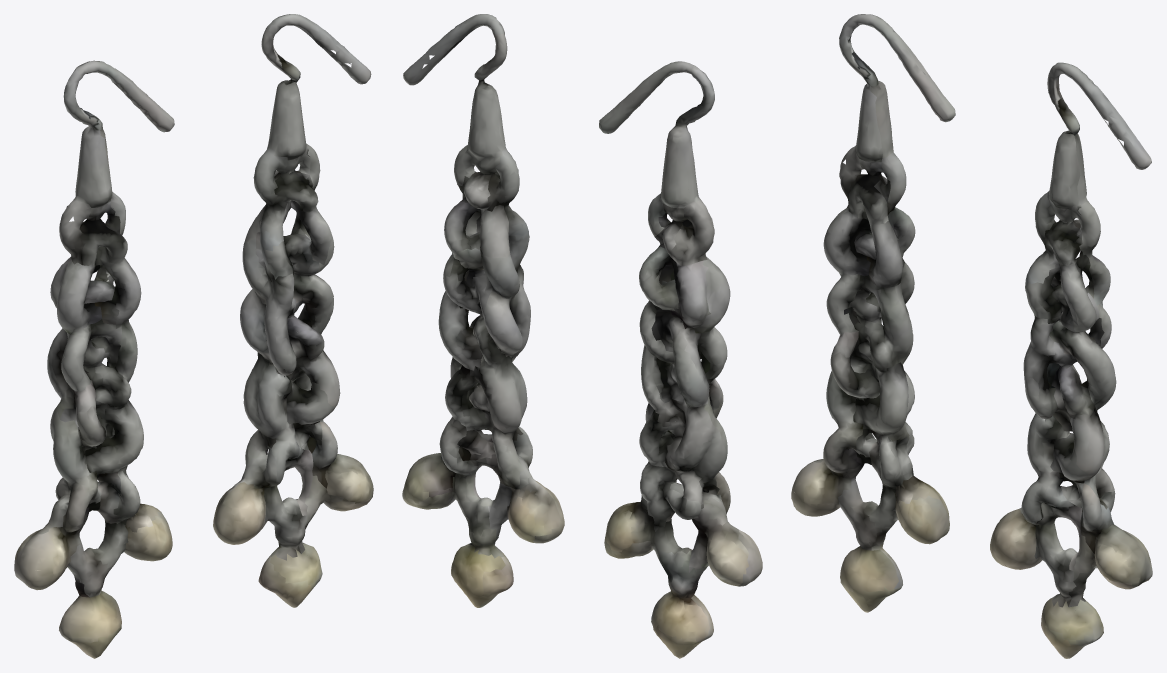
The model's file is damla_kupe.glb.
3 views of the same model, side by side, from view 1: azimuth 30°, elevation 25°; view 2: azimuth 150°, elevation 25°; view 3: azimuth 330°, elevation 25° (orthographic).
Parts seen in each view (by area): view 1: damla_kupe; view 2: damla_kupe; view 3: damla_kupe.
Part boxes in pixels (box(x1,y1,x2,y2)): damla_kupe: box(14, 14, 373, 658); damla_kupe: box(402, 14, 762, 658); damla_kupe: box(791, 14, 1152, 658).
Size of the model in its own units: 0.165 by 0.2659 by 0.0306.
Materials: 1 (1 with a texture image).
